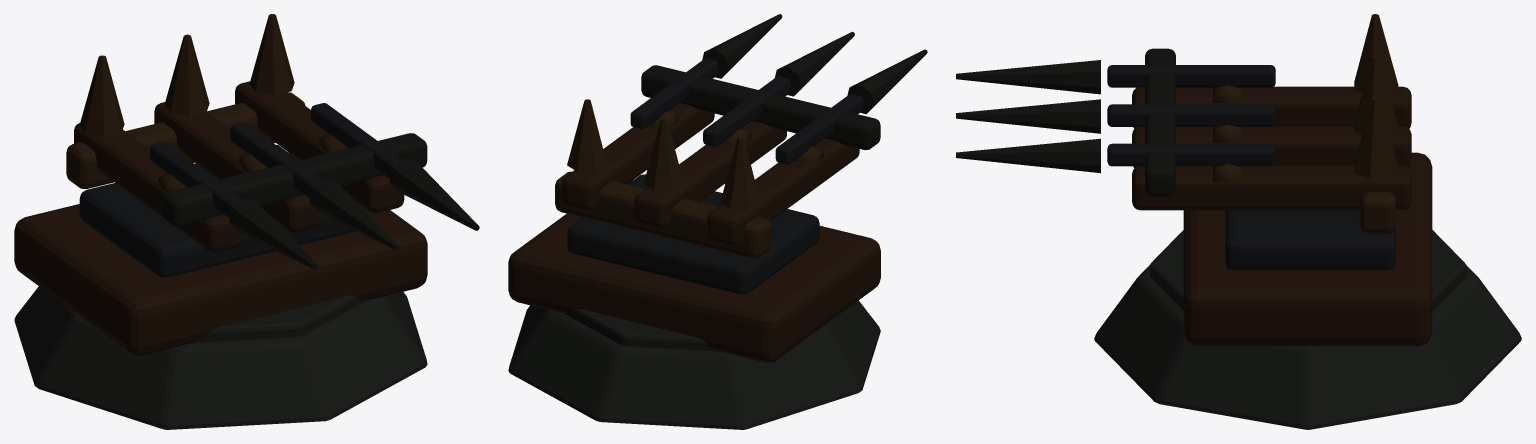
File: TowerKing0_pose.obj
The picture shows the model from 3 angles, left to right: view 1: azimuth 30°, elevation 25°; view 2: azimuth 150°, elevation 25°; view 3: azimuth 270°, elevation 25°; orthographic projection. The views are drawn at different scales.
Visible parts, largest first — view 1: polished_stone_socket_lower_course, royal_oak_deck, iron_royal_turntable, royal_bow_stock, royal_bow_stock.002, royal_bow_stock.001, bronze_crown_rail, polished_stone_socket_upper_course, royal_bow_limb, royal_bolt, royal_bolt.001, royal_bow_limb.002 (+8 smaller); view 2: polished_stone_socket_lower_course, royal_oak_deck, iron_royal_turntable, bronze_crown_rail, royal_bow_stock, royal_bow_stock.002, royal_bow_stock.001, polished_stone_socket_upper_course, royal_bow_limb, royal_iron_guide.002, royal_iron_guide.001, royal_iron_guide (+8 smaller); view 3: polished_stone_socket_lower_course, royal_oak_deck, royal_bow_stock.002, iron_royal_turntable, royal_bow_stock, royal_bow_stock.001, royal_iron_guide.002, royal_iron_guide.001, royal_iron_guide, polished_stone_socket_upper_course, royal_bolt, royal_bolt.001 (+8 smaller).
Boxes of the visible parts, left/top/right/bottom form: polished_stone_socket_lower_course: left=14, top=286, right=427, bottom=429; royal_oak_deck: left=14, top=153, right=427, bottom=355; iron_royal_turntable: left=79, top=145, right=355, bottom=277; royal_bow_stock: left=74, top=123, right=243, bottom=252; royal_bow_stock.002: left=235, top=81, right=404, bottom=213; royal_bow_stock.001: left=154, top=102, right=323, bottom=232; bronze_crown_rail: left=66, top=92, right=305, bottom=188; polished_stone_socket_upper_course: left=194, top=295, right=366, bottom=342; royal_bow_limb: left=162, top=172, right=262, bottom=227; royal_bolt: left=228, top=198, right=318, bottom=269; royal_bolt.001: left=309, top=178, right=398, bottom=250; royal_bow_limb.002: left=329, top=133, right=427, bottom=187; polished_stone_socket_lower_course: left=508, top=300, right=880, bottom=429; royal_oak_deck: left=508, top=180, right=880, bottom=362; iron_royal_turntable: left=567, top=174, right=819, bottom=294; bronze_crown_rail: left=555, top=171, right=770, bottom=258; royal_bow_stock: left=707, top=138, right=859, bottom=246; royal_bow_stock.002: left=562, top=103, right=714, bottom=210; royal_bow_stock.001: left=634, top=120, right=786, bottom=228; polished_stone_socket_upper_course: left=563, top=308, right=718, bottom=351; royal_bow_limb: left=790, top=101, right=880, bottom=150; royal_iron_guide.002: left=630, top=58, right=718, bottom=129; royal_iron_guide.001: left=703, top=76, right=790, bottom=146; royal_iron_guide: left=775, top=94, right=863, bottom=164; polished_stone_socket_lower_course: left=1094, top=265, right=1521, bottom=429; royal_oak_deck: left=1183, top=152, right=1432, bottom=345; royal_bow_stock.002: left=1132, top=165, right=1411, bottom=210; iron_royal_turntable: left=1225, top=210, right=1395, bottom=269; royal_bow_stock: left=1132, top=86, right=1411, bottom=128; royal_bow_stock.001: left=1132, top=126, right=1411, bottom=167; royal_iron_guide.002: left=1107, top=143, right=1275, bottom=166; royal_iron_guide.001: left=1107, top=104, right=1275, bottom=126; royal_iron_guide: left=1107, top=65, right=1275, bottom=87; polished_stone_socket_upper_course: left=1149, top=230, right=1466, bottom=310; royal_bolt: left=956, top=60, right=1100, bottom=94; royal_bolt.001: left=956, top=99, right=1100, bottom=133.
Bounding box in the file's own units: 1.65 × 1.21 × 2.19.
